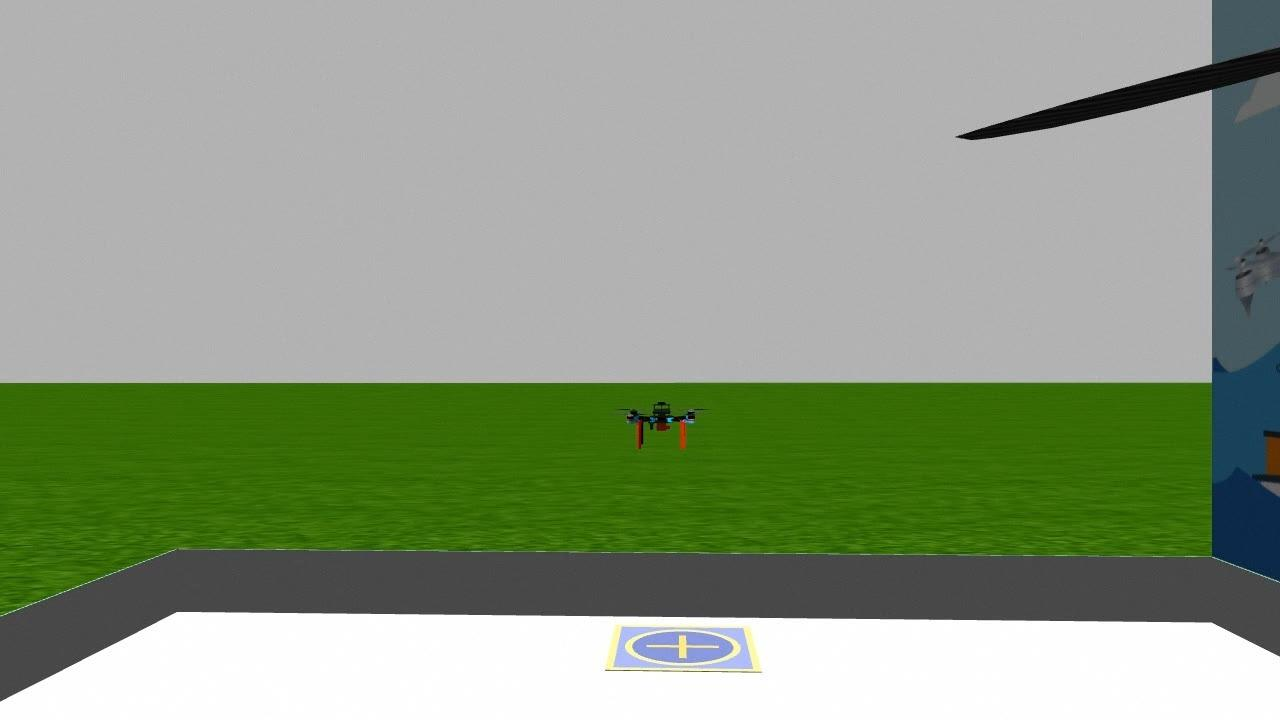UAV: (618, 392, 708, 452)
